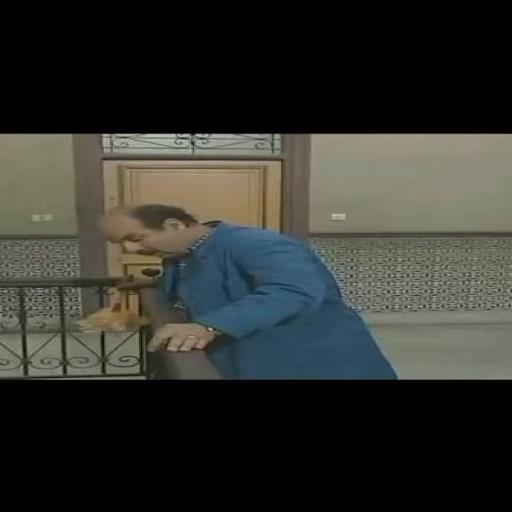beji_matrix: (99, 204, 211, 259)
